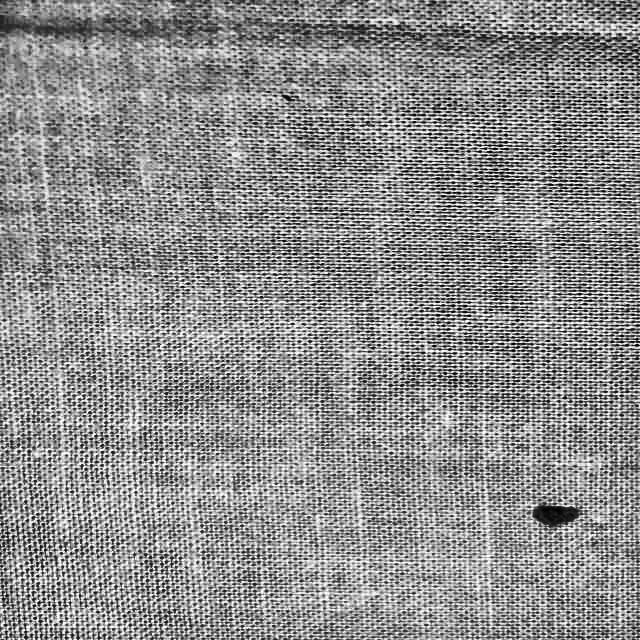Hole: (519, 480, 595, 550)
